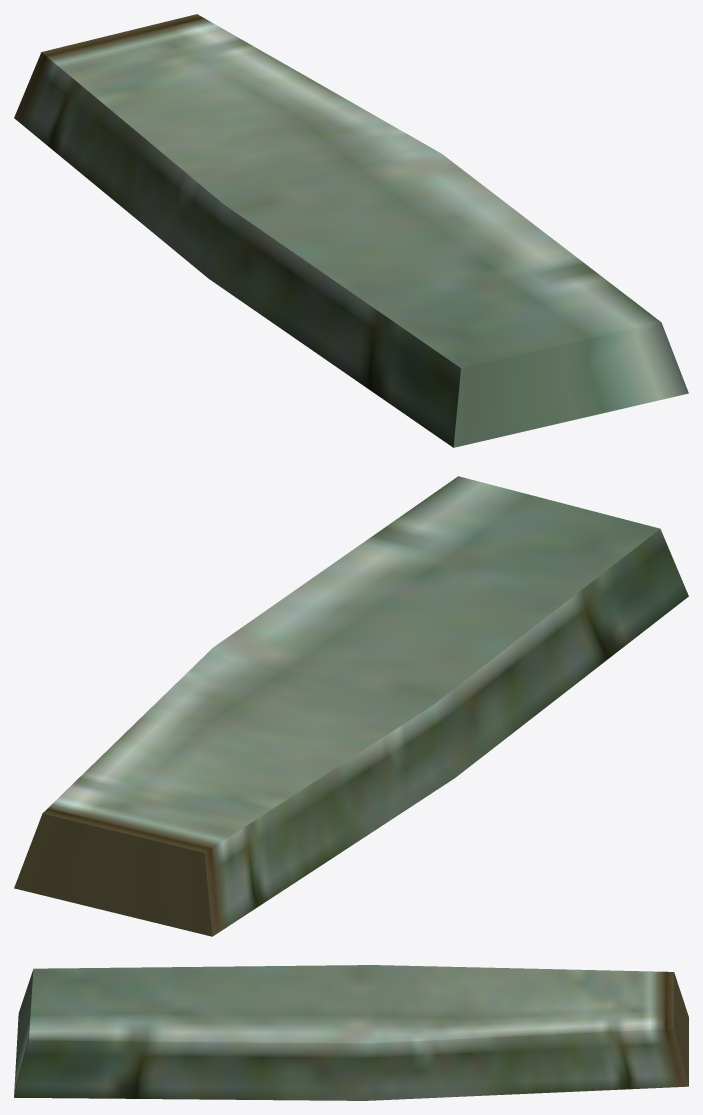
The model's file is zhuan02.FBX.
3 renders of one model, top to bottom at view 1: azimuth 30°, elevation 25°; view 2: azimuth 150°, elevation 25°; view 3: azimuth 270°, elevation 25°, orthographic. The views are drawn at different scales.
Visible parts, largest first — view 1: Object155; view 2: Object155; view 3: Object155.
Boxes of the visible parts, <box> form: Object155: <box>14,14,688,447</box>; Object155: <box>14,476,688,936</box>; Object155: <box>14,965,688,1100</box>.
Size of the model in its own units: 40.67 by 10.72 by 127.
